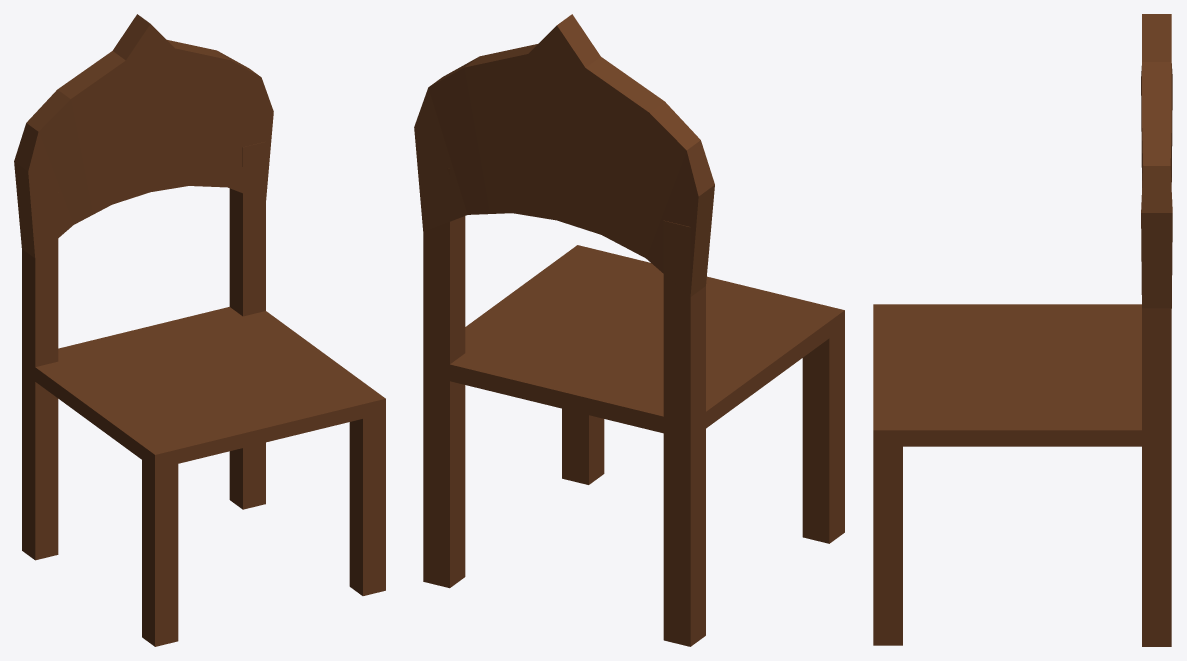
File: Chair.fbx
The picture shows the model from 3 angles, left to right: view 1: azimuth 30°, elevation 25°; view 2: azimuth 150°, elevation 25°; view 3: azimuth 270°, elevation 25°; orthographic projection. The views are drawn at different scales.
Visible parts, largest first — view 1: Chair; view 2: Chair; view 3: Chair.
Boxes of the visible parts, x1=… form: Chair: x1=14, y1=14, x2=385, y2=646; Chair: x1=414, y1=14, x2=844, y2=646; Chair: x1=873, y1=14, x2=1172, y2=646.
Bounding box in the file's own units: 106 × 211 × 100.
